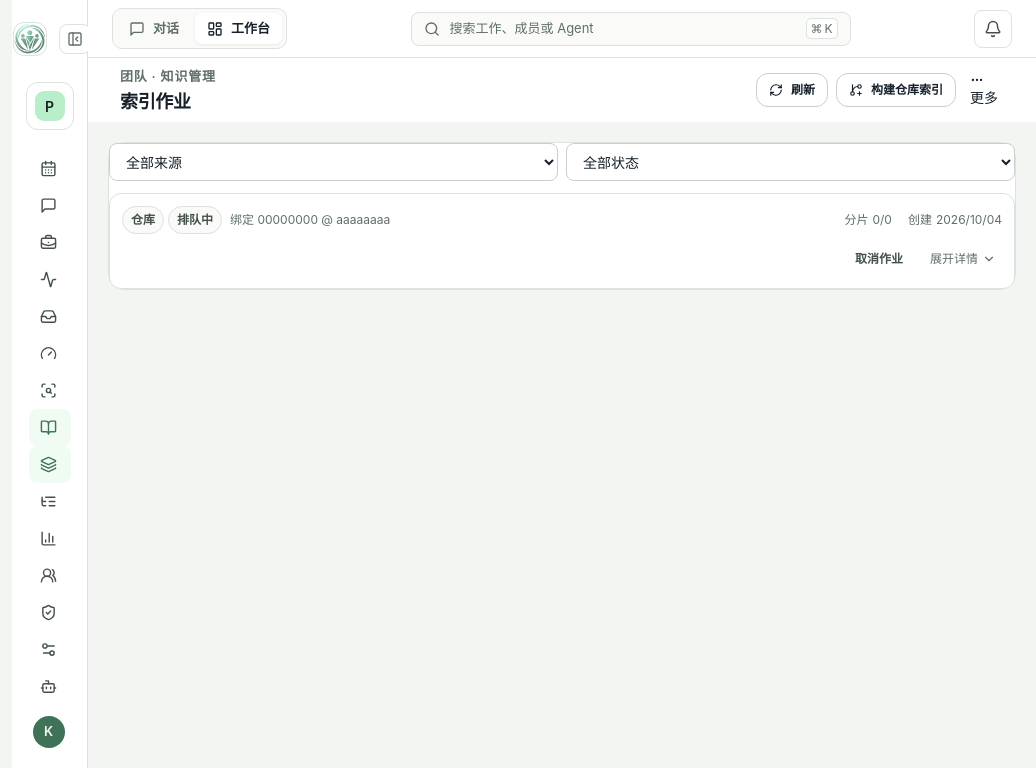
Test: KnowledgeIndexPage › words a 409 cancel with the live status and keeps the row
Step 1. Click the button "取消作业" → click(879, 259), box [842,242,916,276]
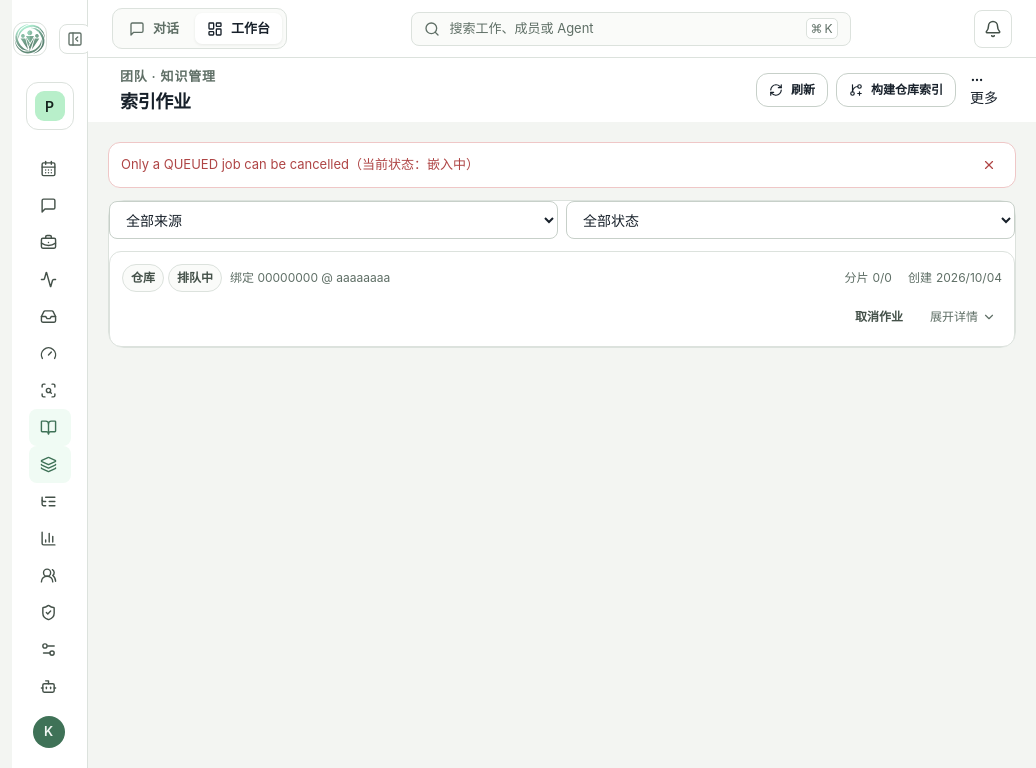
Expected: the text "Only a QUEUED job can be cancelled（当前状态：嵌入中）" is shown, [108,142,1016,188]
Expected: the text "嵌入中" is shown, [121,156,479,172]
